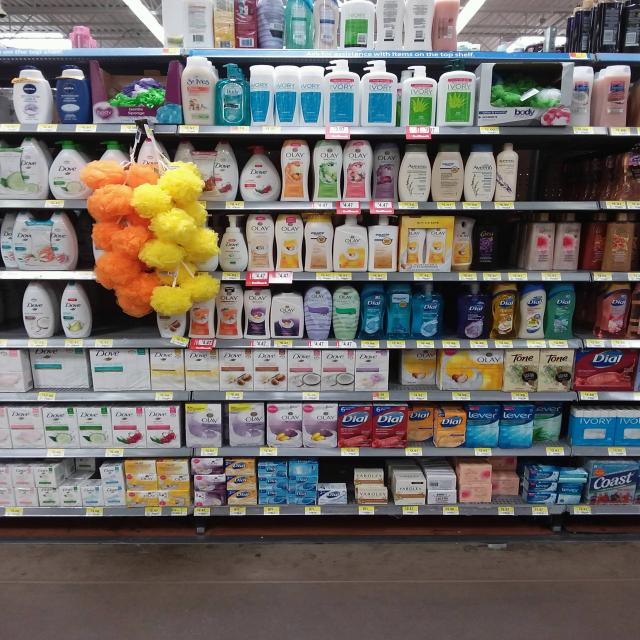void: (96, 2, 162, 60), (569, 132, 613, 217), (98, 282, 151, 346), (523, 140, 565, 212), (512, 0, 558, 64), (466, 1, 509, 65), (38, 0, 69, 64), (0, 2, 32, 61)
